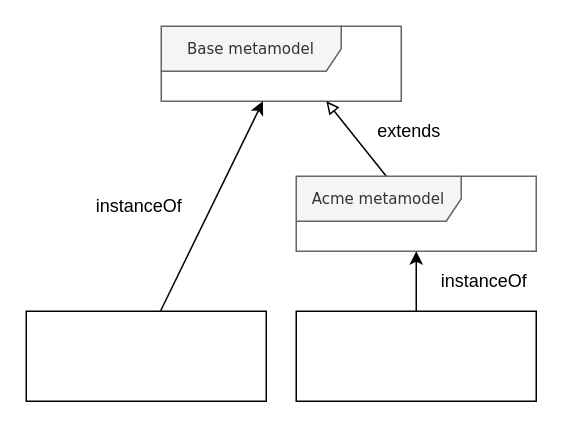
Image size: 563x435. Some labels were removed from this diagram. Each missing label, with the centre of its shape:
"Acme model" goes at pixel 415 355.
"XSure model" goes at pixel 145 355.
